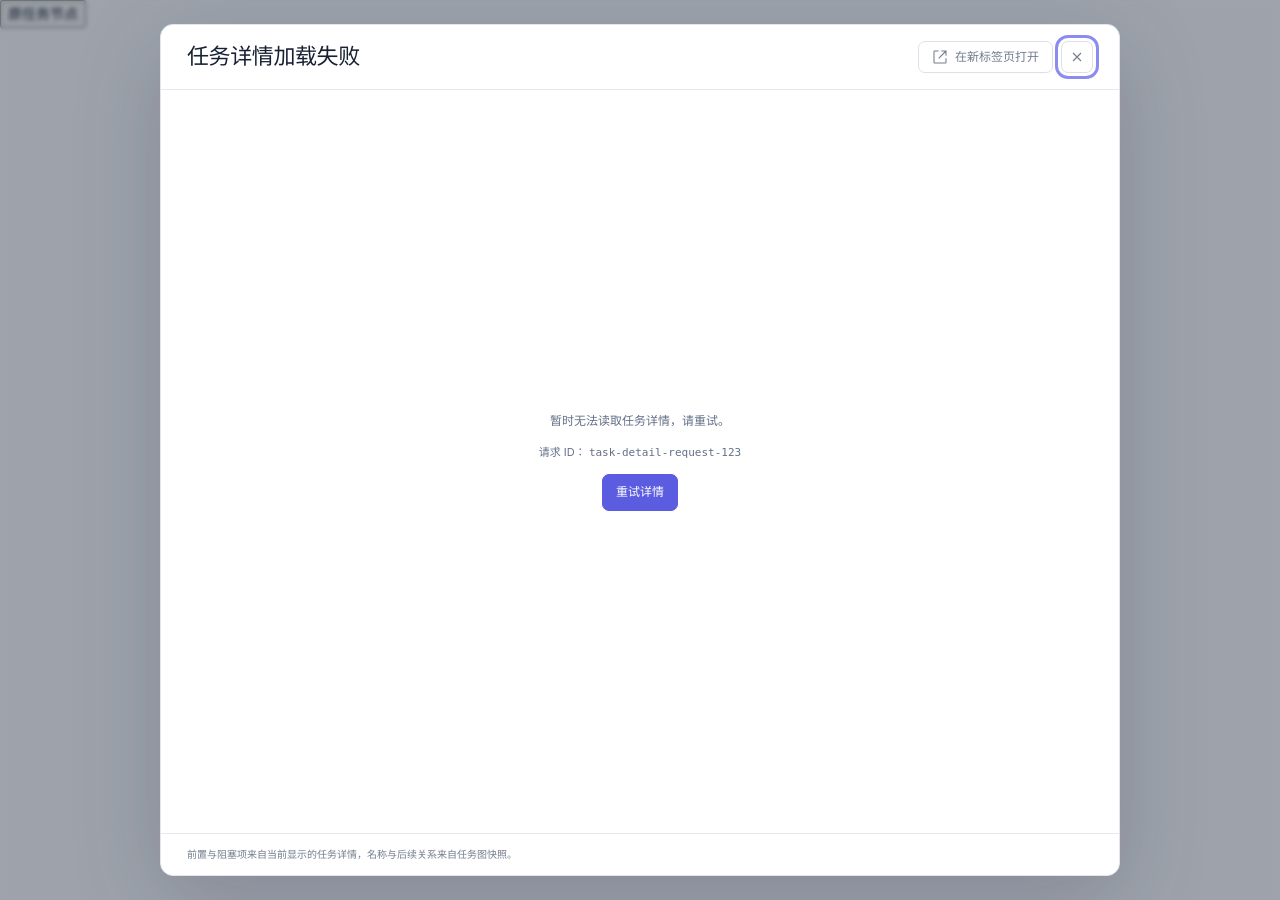
it: task detail dialog › keeps failures local, hides private errors, and retries with fresh detail
Expected: the message shows "task-detail-request-123", [589,446,741,459]
Expected: the message does not show "private database password", [539,413,741,511]
Click the button "重试详情" at point(640, 492), box [602,474,678,511]
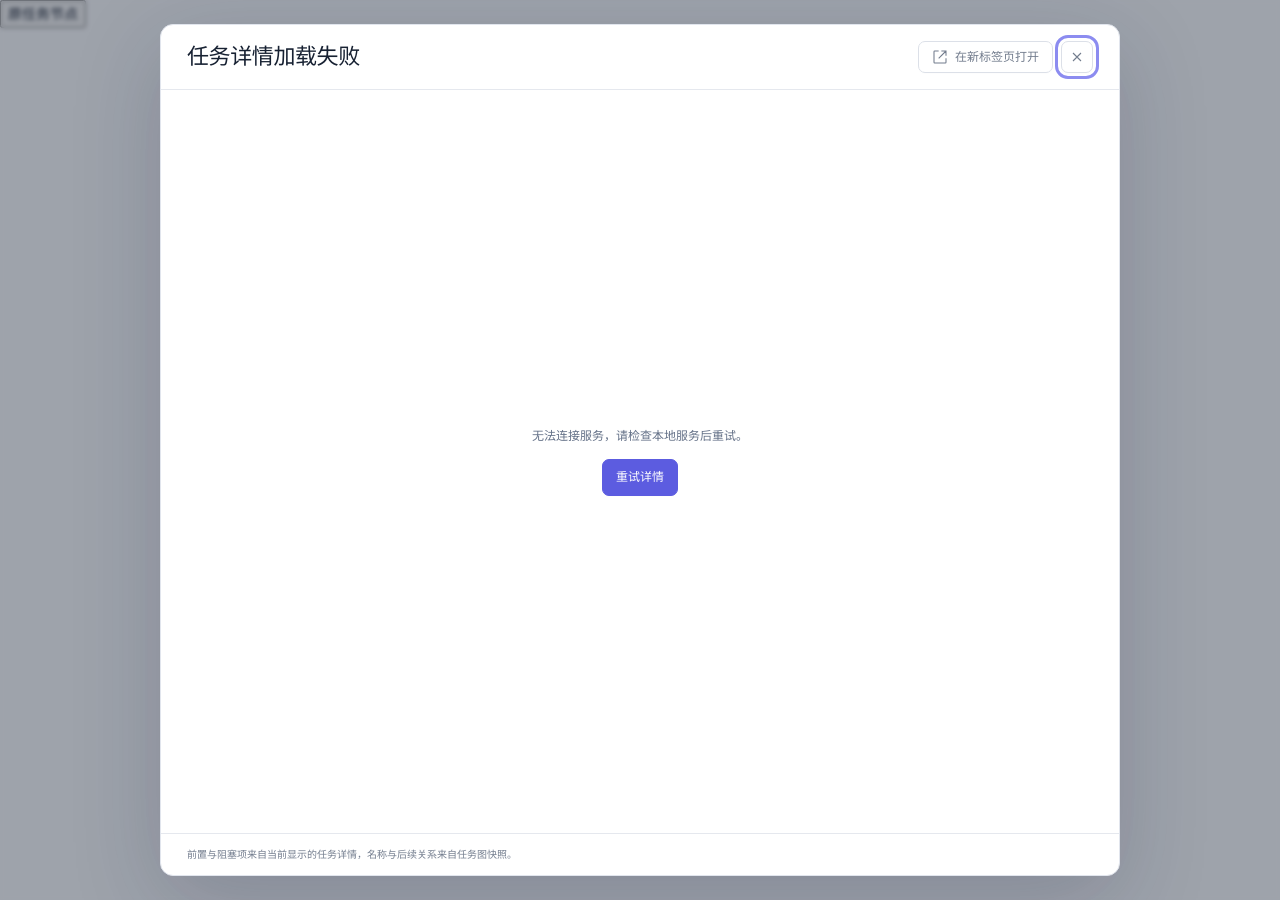
Expected: the text "无法连接服务，请检查本地服务后重试。" is shown, [532,427,748,446]
Expected: the text "task-detail-request-123" is gone
Click the button "重试详情" at point(640, 477), box [602,459,678,496]
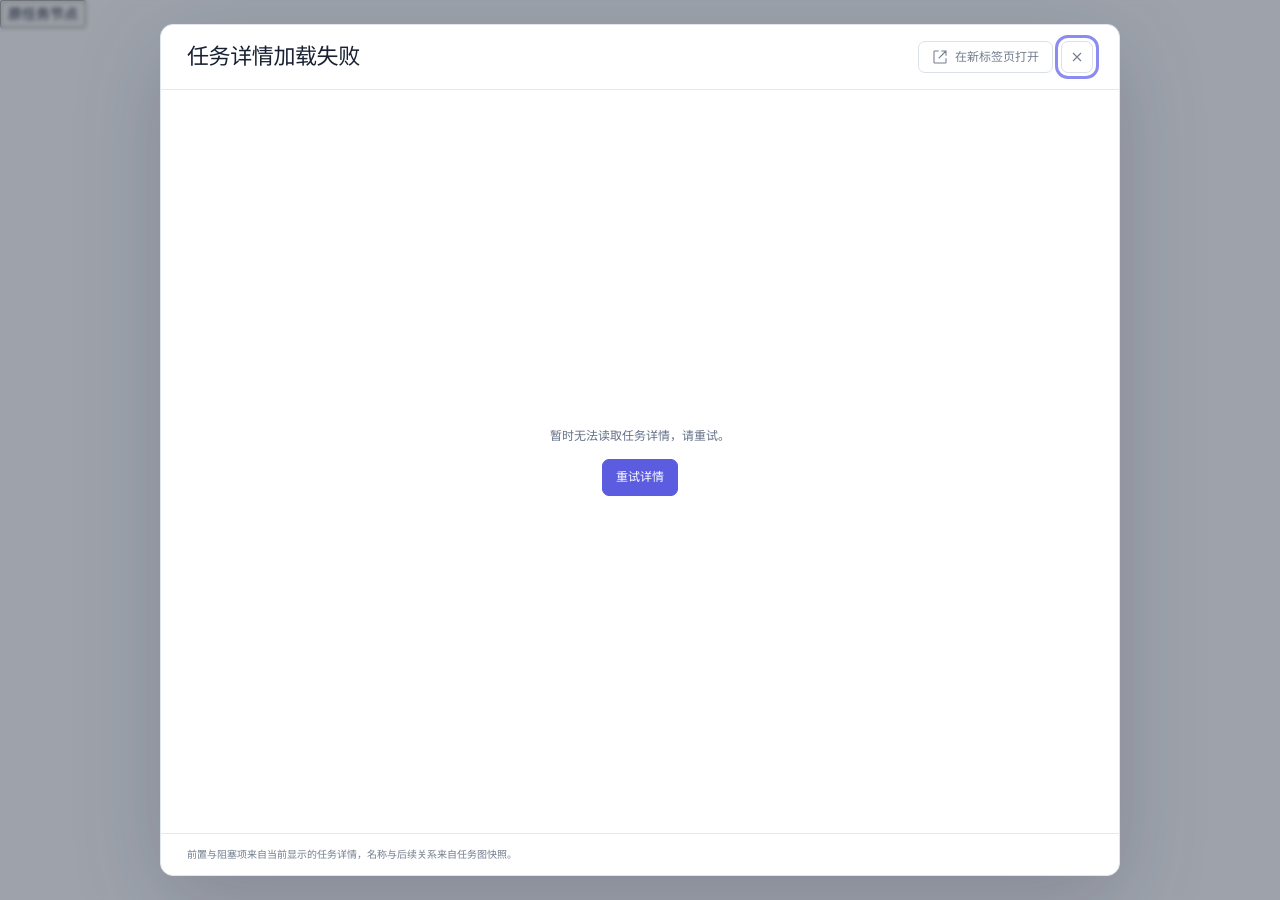
Expected: the message "暂时无法读取任务详情，请重试。 重试详情" is shown, [550,428,730,496]
Expected: the text "暂时无法读取任务详情，请重试。" is shown, [550,427,730,446]
Click the button "重试详情" at point(640, 477), box [602,459,678,496]
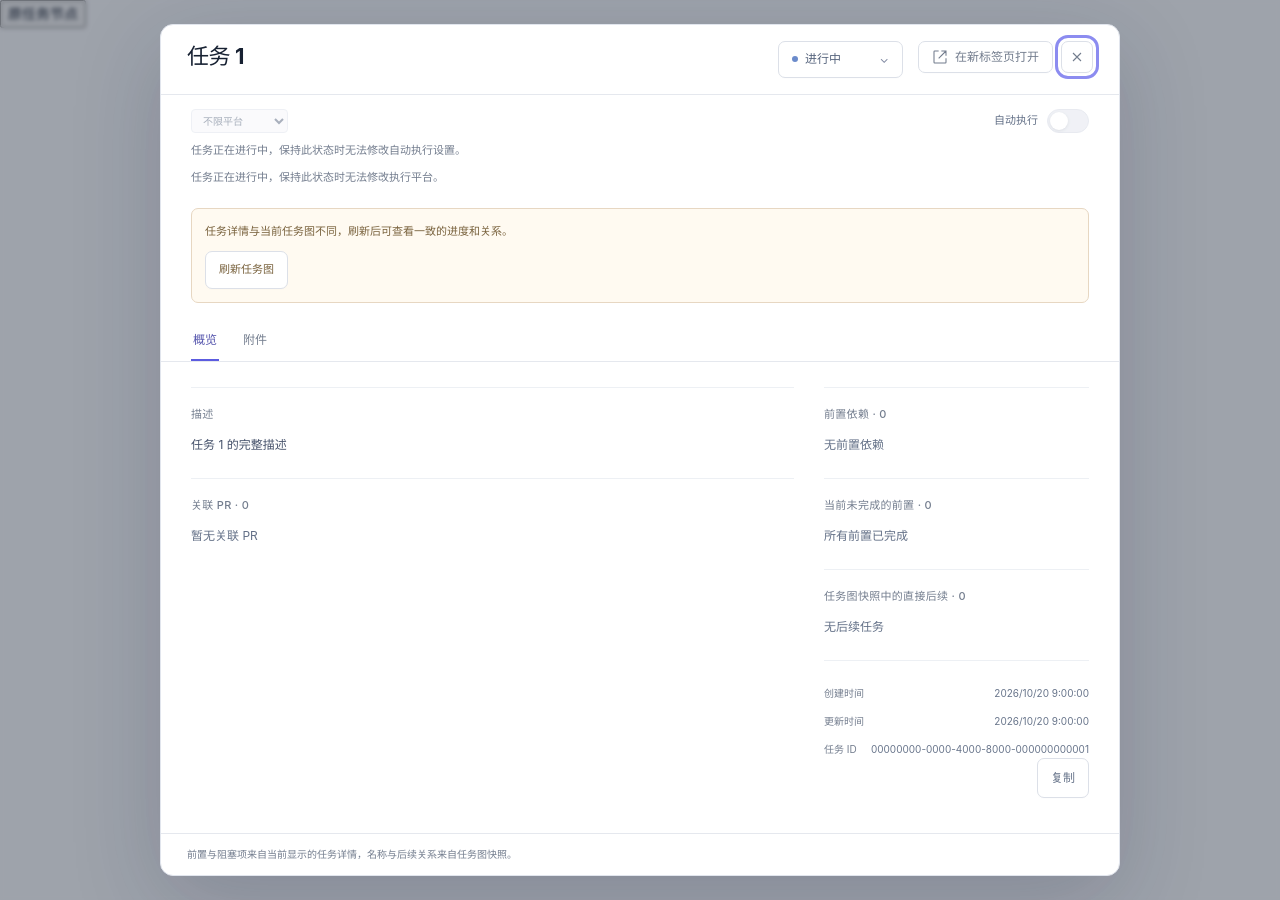
Expected: the heading "任务 1" is shown, [187,43,244,69]
Expected: the button "进行中 ⌄" is shown, [778,41,903,78]
